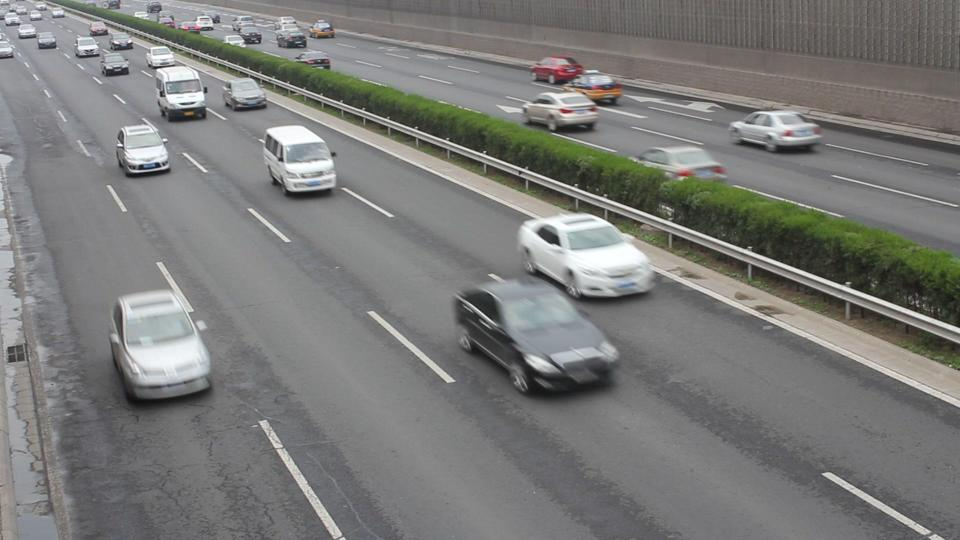car: (451, 274, 622, 396), (517, 212, 657, 300), (108, 288, 214, 401), (260, 124, 338, 196), (727, 110, 825, 153), (634, 144, 729, 183), (521, 91, 600, 131), (114, 124, 172, 177), (562, 73, 625, 105), (529, 55, 586, 84), (222, 76, 267, 111), (299, 45, 329, 74), (99, 53, 131, 77), (145, 46, 177, 68), (145, 4, 171, 28), (75, 36, 100, 58), (313, 16, 339, 37), (233, 11, 255, 31), (185, 18, 208, 37), (37, 31, 57, 50), (223, 34, 243, 51), (242, 27, 262, 44), (17, 23, 38, 39), (273, 25, 297, 39), (200, 11, 218, 27), (0, 42, 16, 59)
truck: (152, 64, 208, 121)
